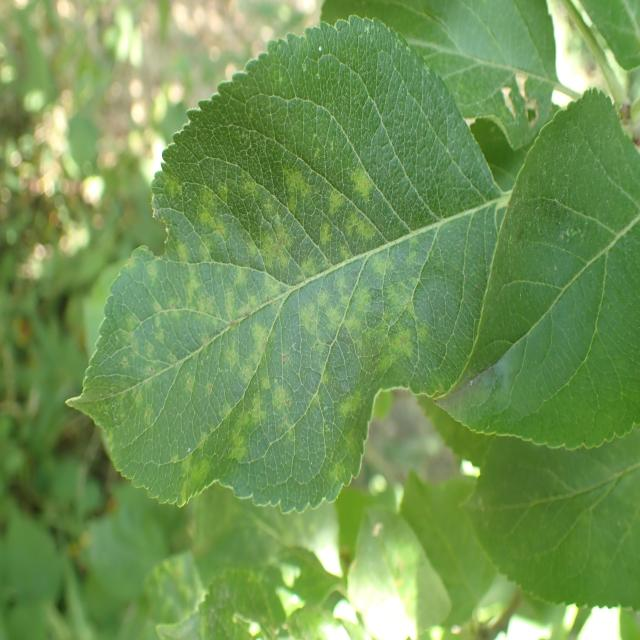scab: (78, 125, 469, 506), (504, 114, 603, 268), (431, 357, 547, 462)
